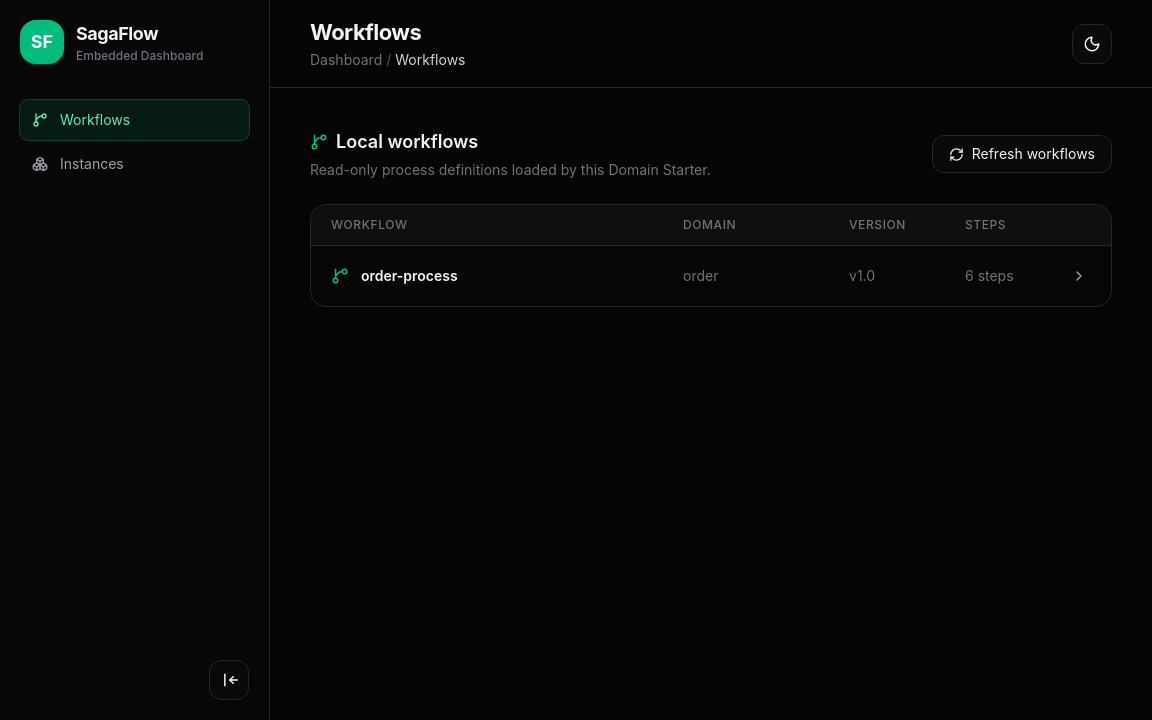
Scenario: workflow navigation › keeps the two-item sidebar and existing Instances list accessible
Expected: the button "order-process order v1.0 6 steps" is shown, [311,246,1111,306]
Expected: the button "Workflows" is shown, [20,100,249,140]
Click the button "Instances" at {"x": 134, "y": 164}, box [20,144,249,184]
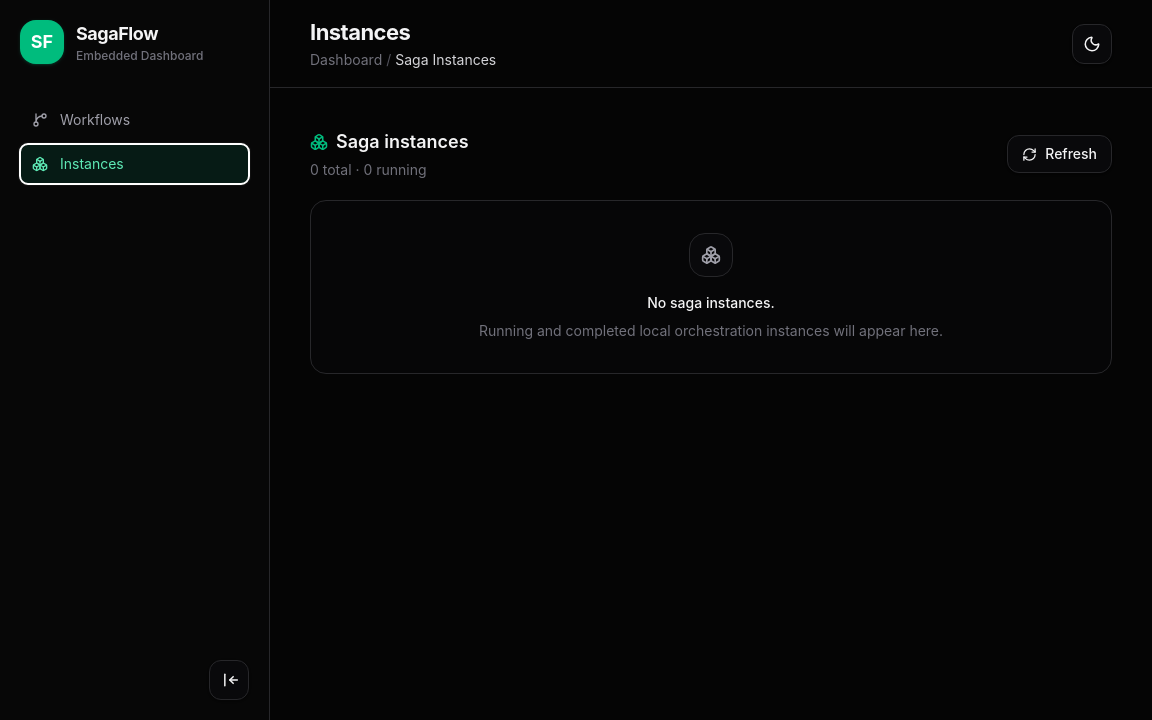
Now the text "No saga instances." is shown, box [647,294,775,311]
Click the button "Workflows" at {"x": 134, "y": 120}, box [20,100,249,140]
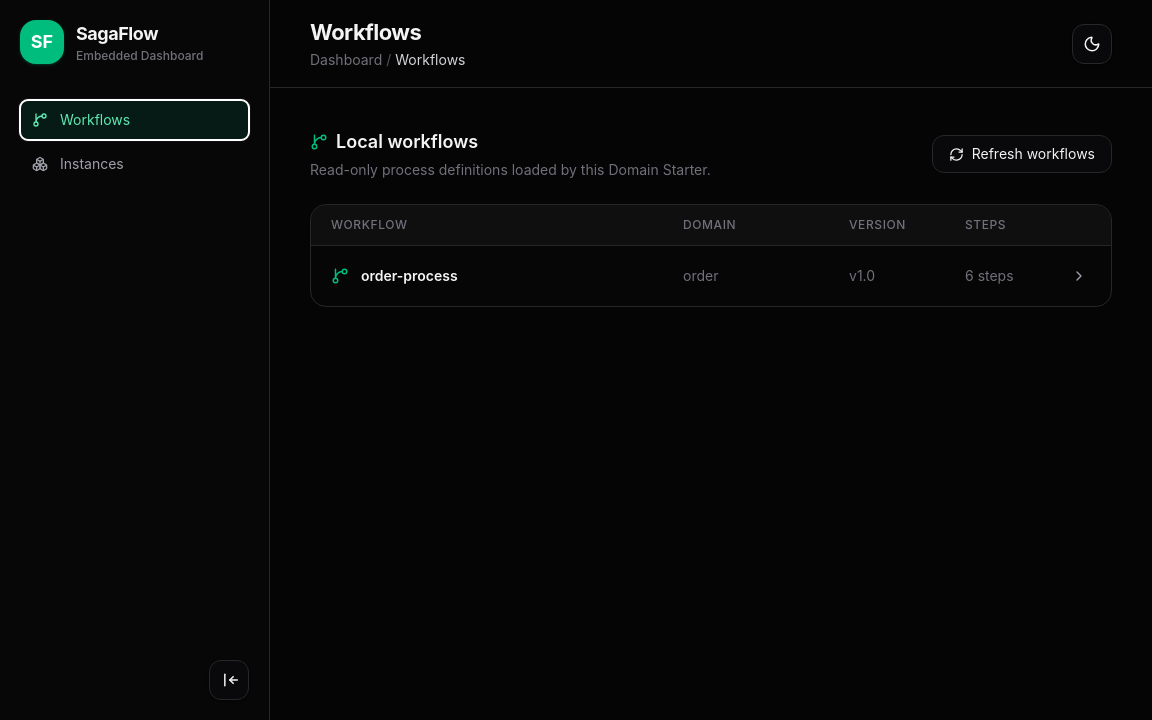
Now the button "order-process order v1.0 6 steps" is shown, box [311,246,1111,306]
